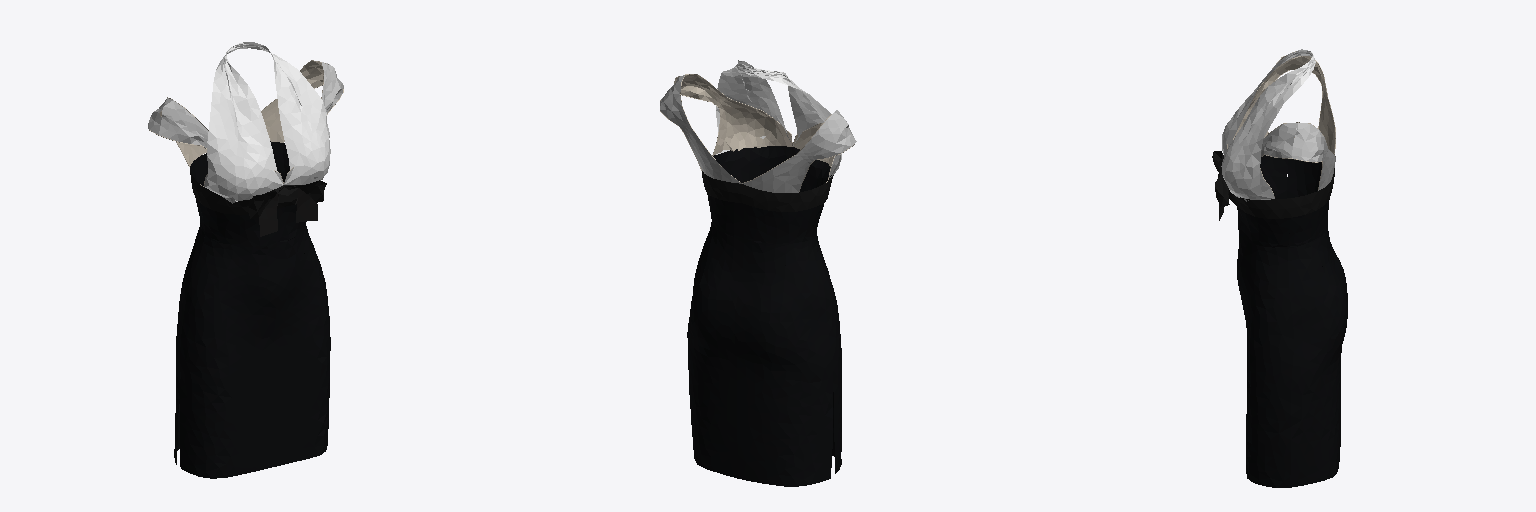
Rendered from dress3.obj.
3 renders of one model, left to right at view 1: azimuth 30°, elevation 25°; view 2: azimuth 150°, elevation 25°; view 3: azimuth 270°, elevation 25°, orthographic.
Bounding box in the file's own units: 478 × 961 × 294.